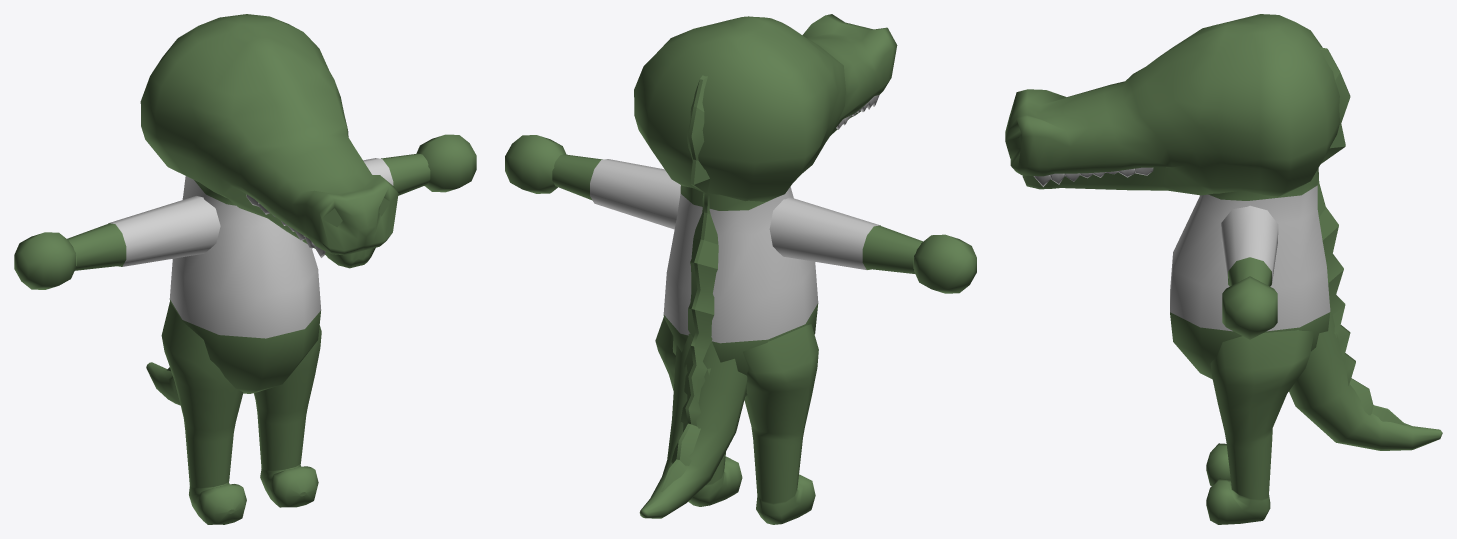
The model's file is Alligator_Girl1_FBX.fbx.
The picture shows the model from 3 angles, left to right: view 1: azimuth 30°, elevation 25°; view 2: azimuth 150°, elevation 25°; view 3: azimuth 270°, elevation 25°; orthographic projection. The views are drawn at different scales.
Visible parts, largest first — view 1: Alligator_Geo; view 2: Alligator_Geo; view 3: Alligator_Geo.
Boxes of the visible parts, x1=… form: Alligator_Geo: x1=14, y1=14, x2=476, y2=524; Alligator_Geo: x1=505, y1=14, x2=976, y2=524; Alligator_Geo: x1=1005, y1=14, x2=1442, y2=524.
Bounding box in the file's own units: 7.05 × 7.01 × 5.85.
